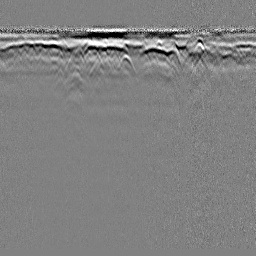cavity: (116, 52, 136, 73)
